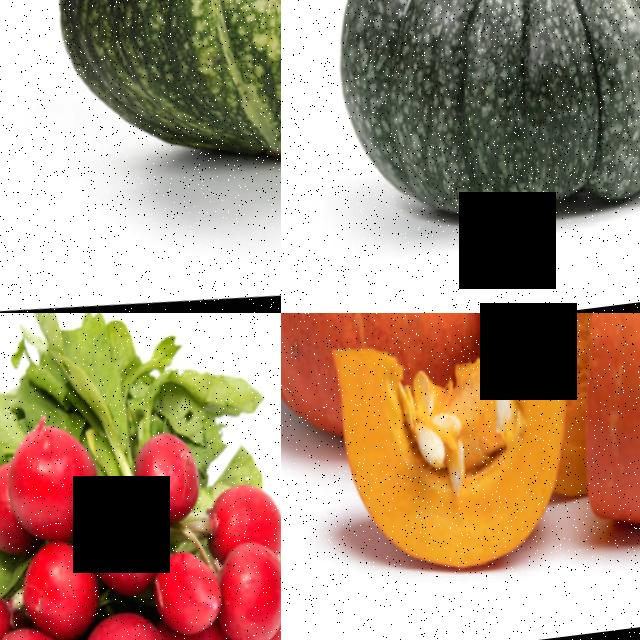pumpkin: (298, 0, 640, 253), (306, 332, 569, 595), (18, 0, 281, 206), (518, 313, 640, 568)
radishes: (0, 376, 281, 640)
